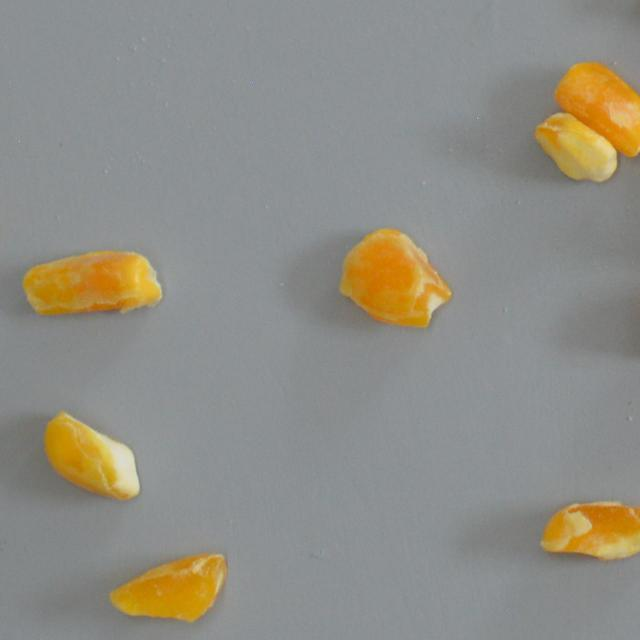pelicula: (334, 226, 455, 329), (20, 248, 165, 319), (40, 408, 142, 504), (104, 552, 230, 624), (554, 58, 640, 159), (533, 110, 618, 184), (540, 502, 640, 563)
